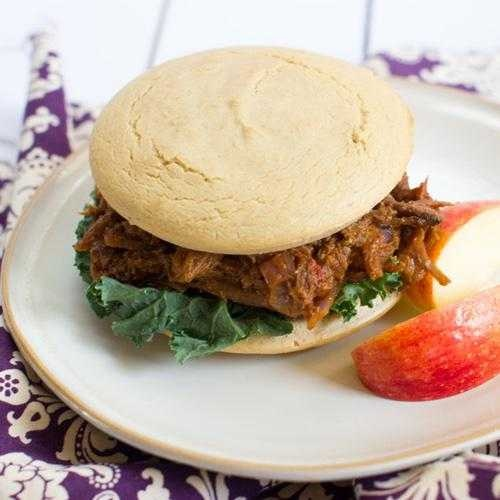hamburger: (79, 37, 420, 350)
